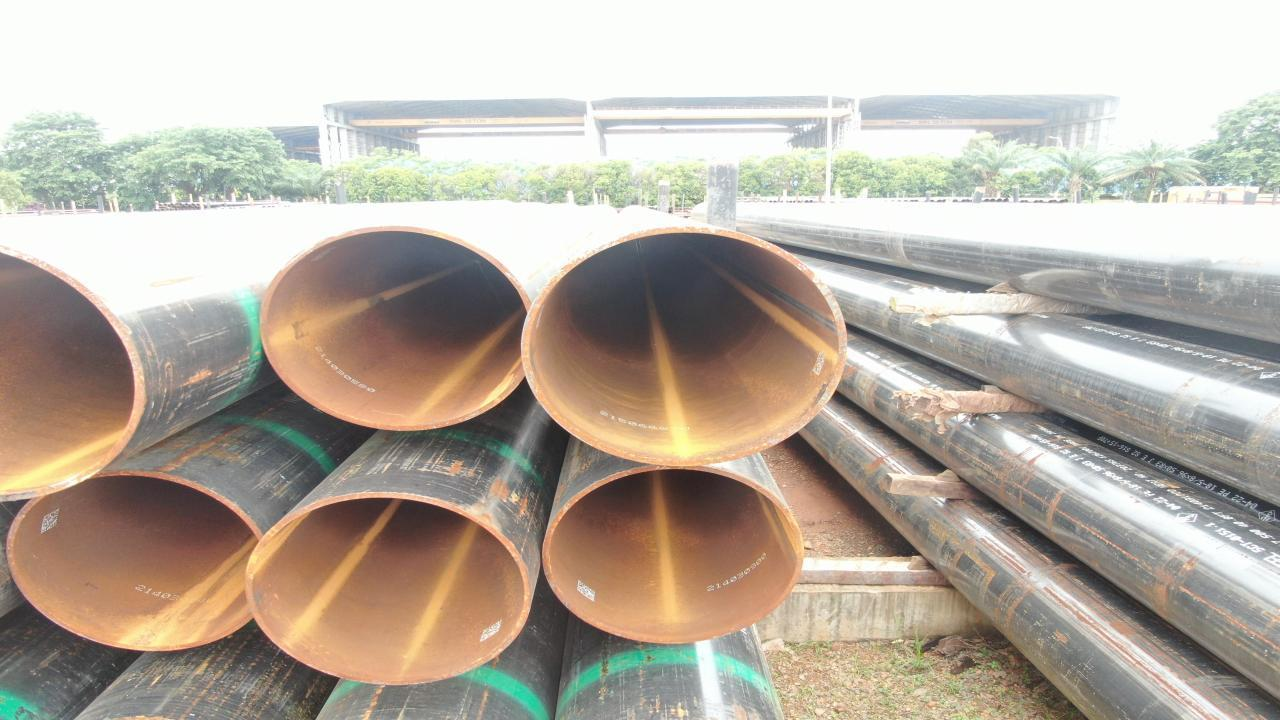pipe: (517, 228, 854, 468), (256, 224, 532, 434), (241, 492, 538, 686), (542, 463, 812, 646), (10, 473, 263, 653), (0, 243, 149, 502)
